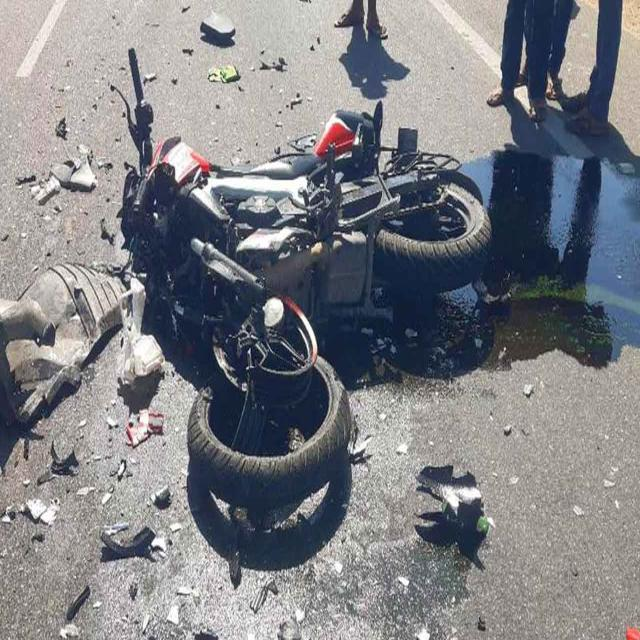accident: (120, 51, 490, 417)
